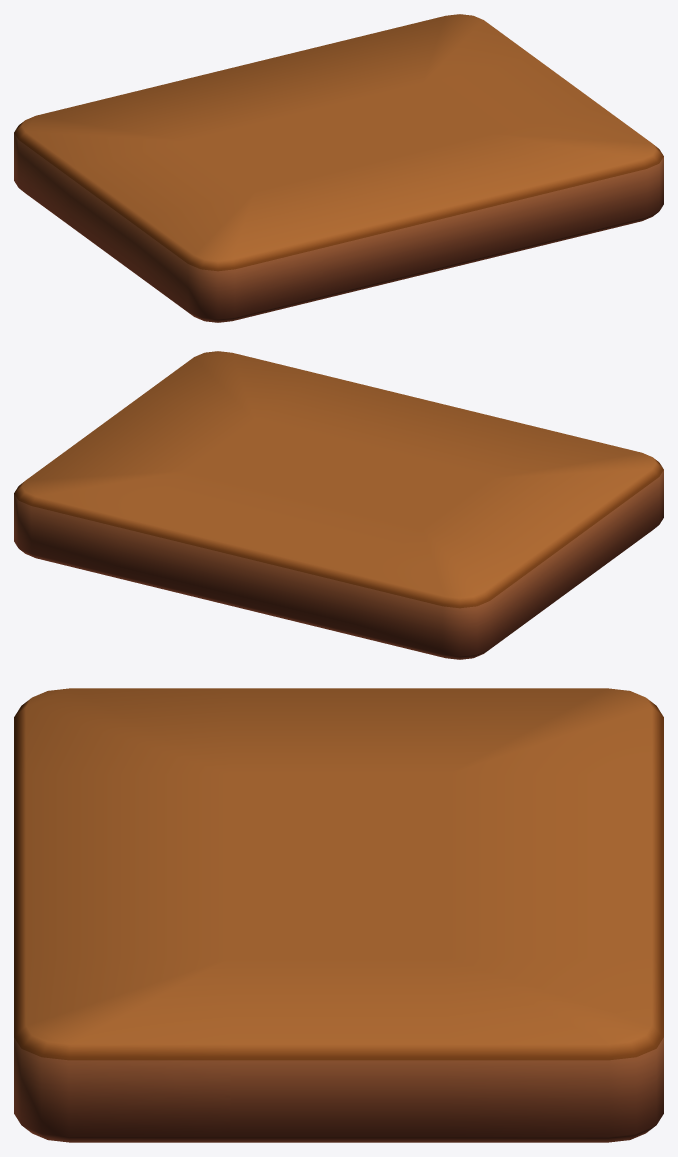
Rendered from m_Brownie04.fbx.
3 views of the same model, one above another, from view 1: azimuth 30°, elevation 25°; view 2: azimuth 150°, elevation 25°; view 3: azimuth 270°, elevation 25° (orthographic). The views are drawn at different scales.
Visible parts, largest first — view 1: m_Brownie04; view 2: m_Brownie04; view 3: m_Brownie04.
Part boxes in pixels (x1,y1,x2,y2): m_Brownie04: [14, 14, 663, 322]; m_Brownie04: [14, 351, 663, 659]; m_Brownie04: [14, 688, 663, 1142].
Size of the model in its own units: 40 by 5 by 30.
